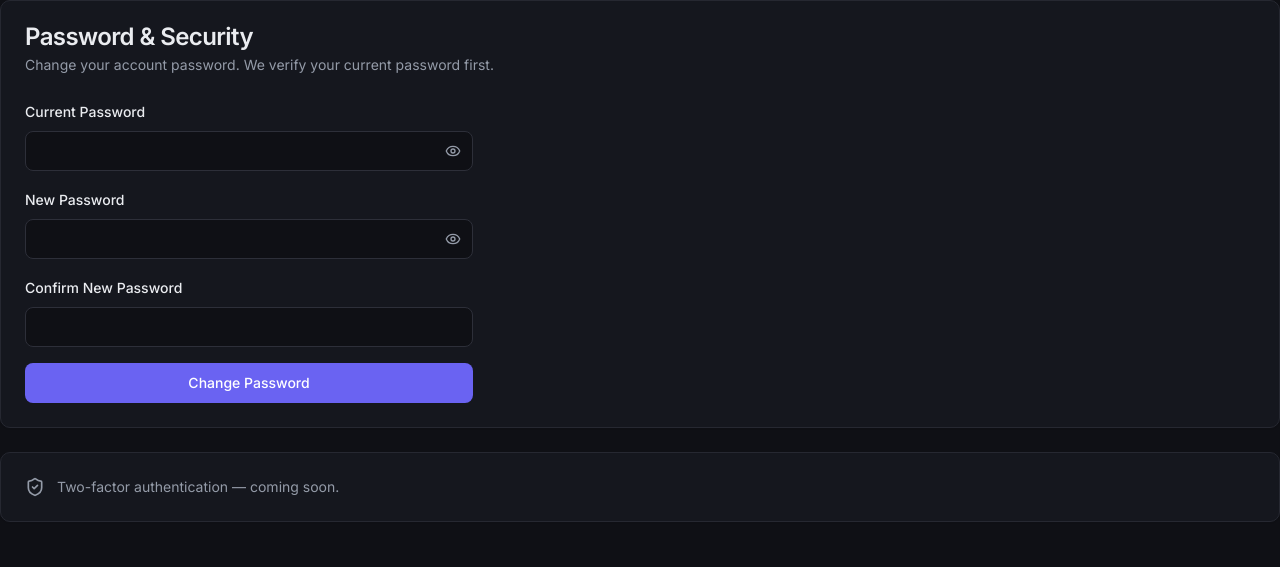
Test: SecuritySettings › shows a mismatch error when confirmation doesn't match the new password
Type "oldpass123" into the password field labelled "Current Password".
click(249, 151); type("oldpass123")  # box [25,131,473,171]
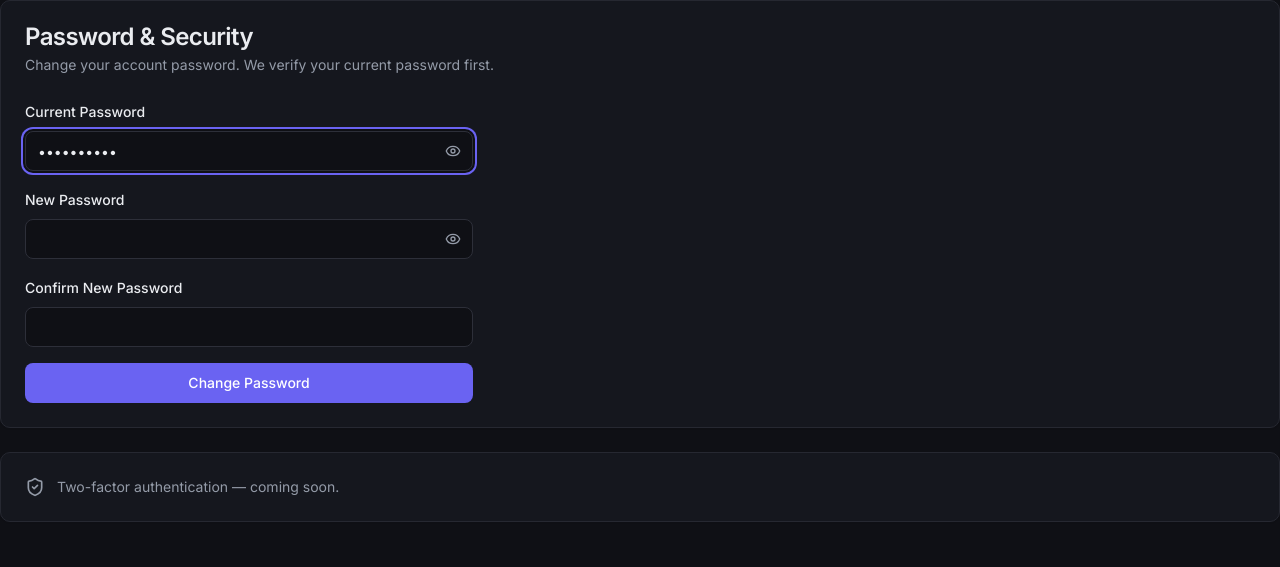
Type "newpassword1" into the password field labelled "New Password".
click(249, 239); type("newpassword1")  # box [25,219,473,259]
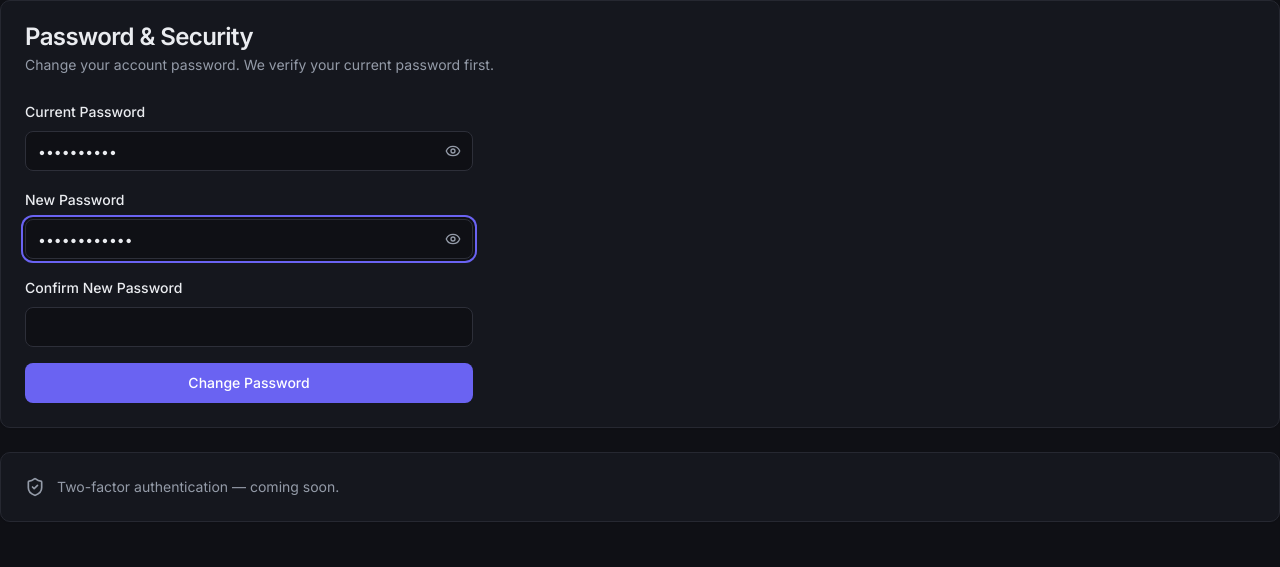
Type "different1" into the password field labelled "Confirm New Password".
click(249, 327); type("different1")  # box [25,307,473,347]
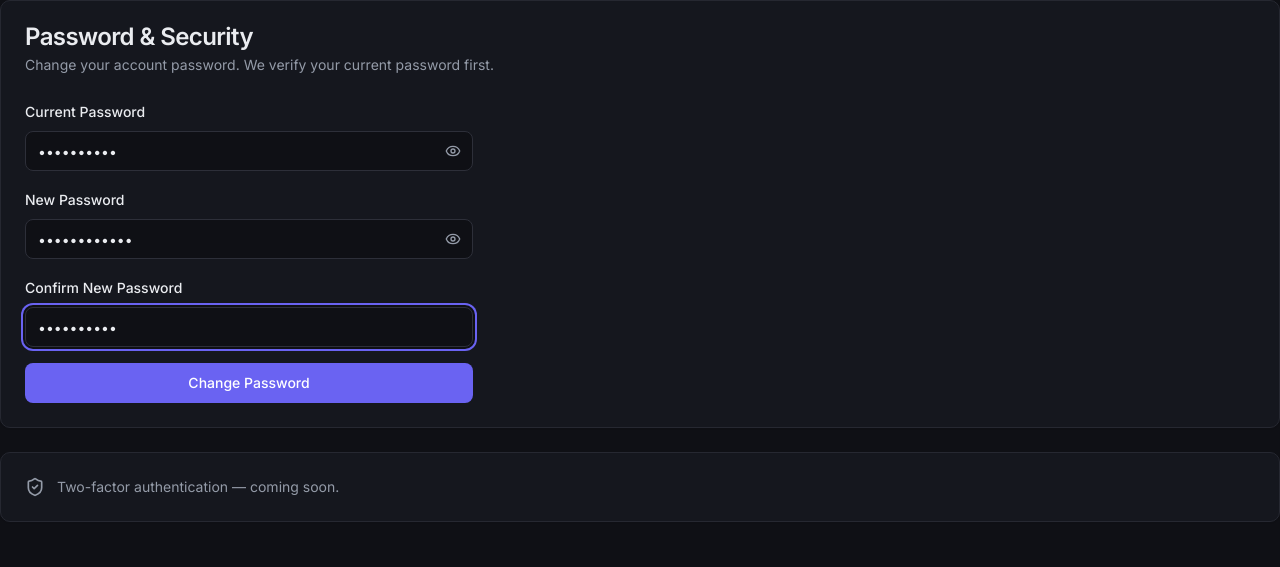
Click the button "Change Password".
click(249, 383)  # box [25,363,473,403]
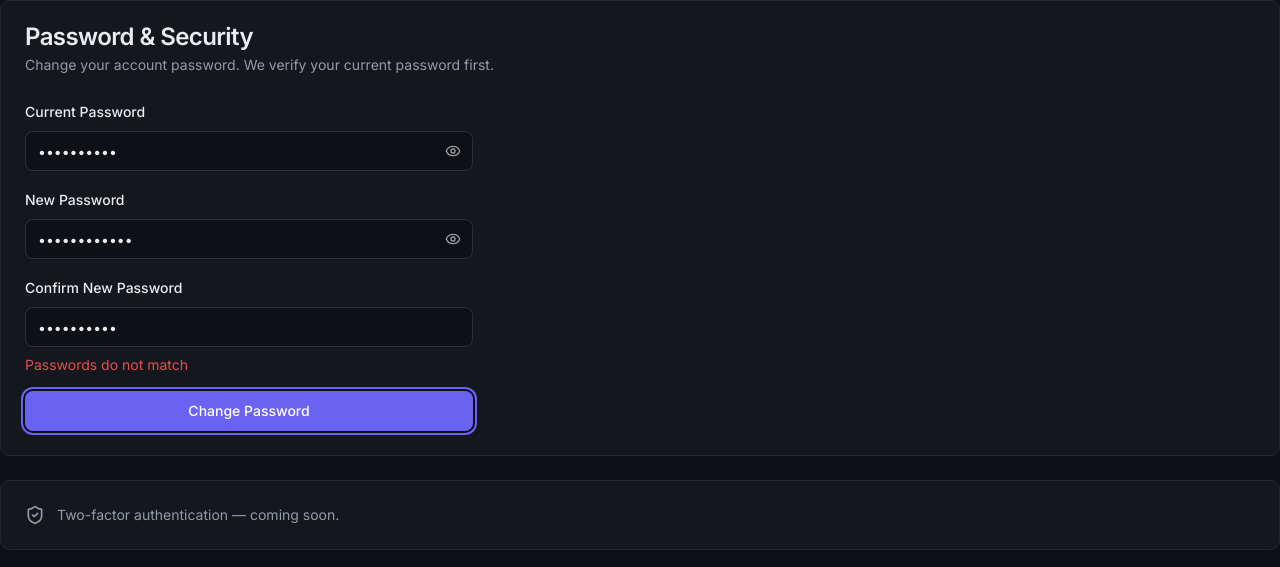
Check: the text "Passwords do not match" is shown, box [25,356,188,373]
